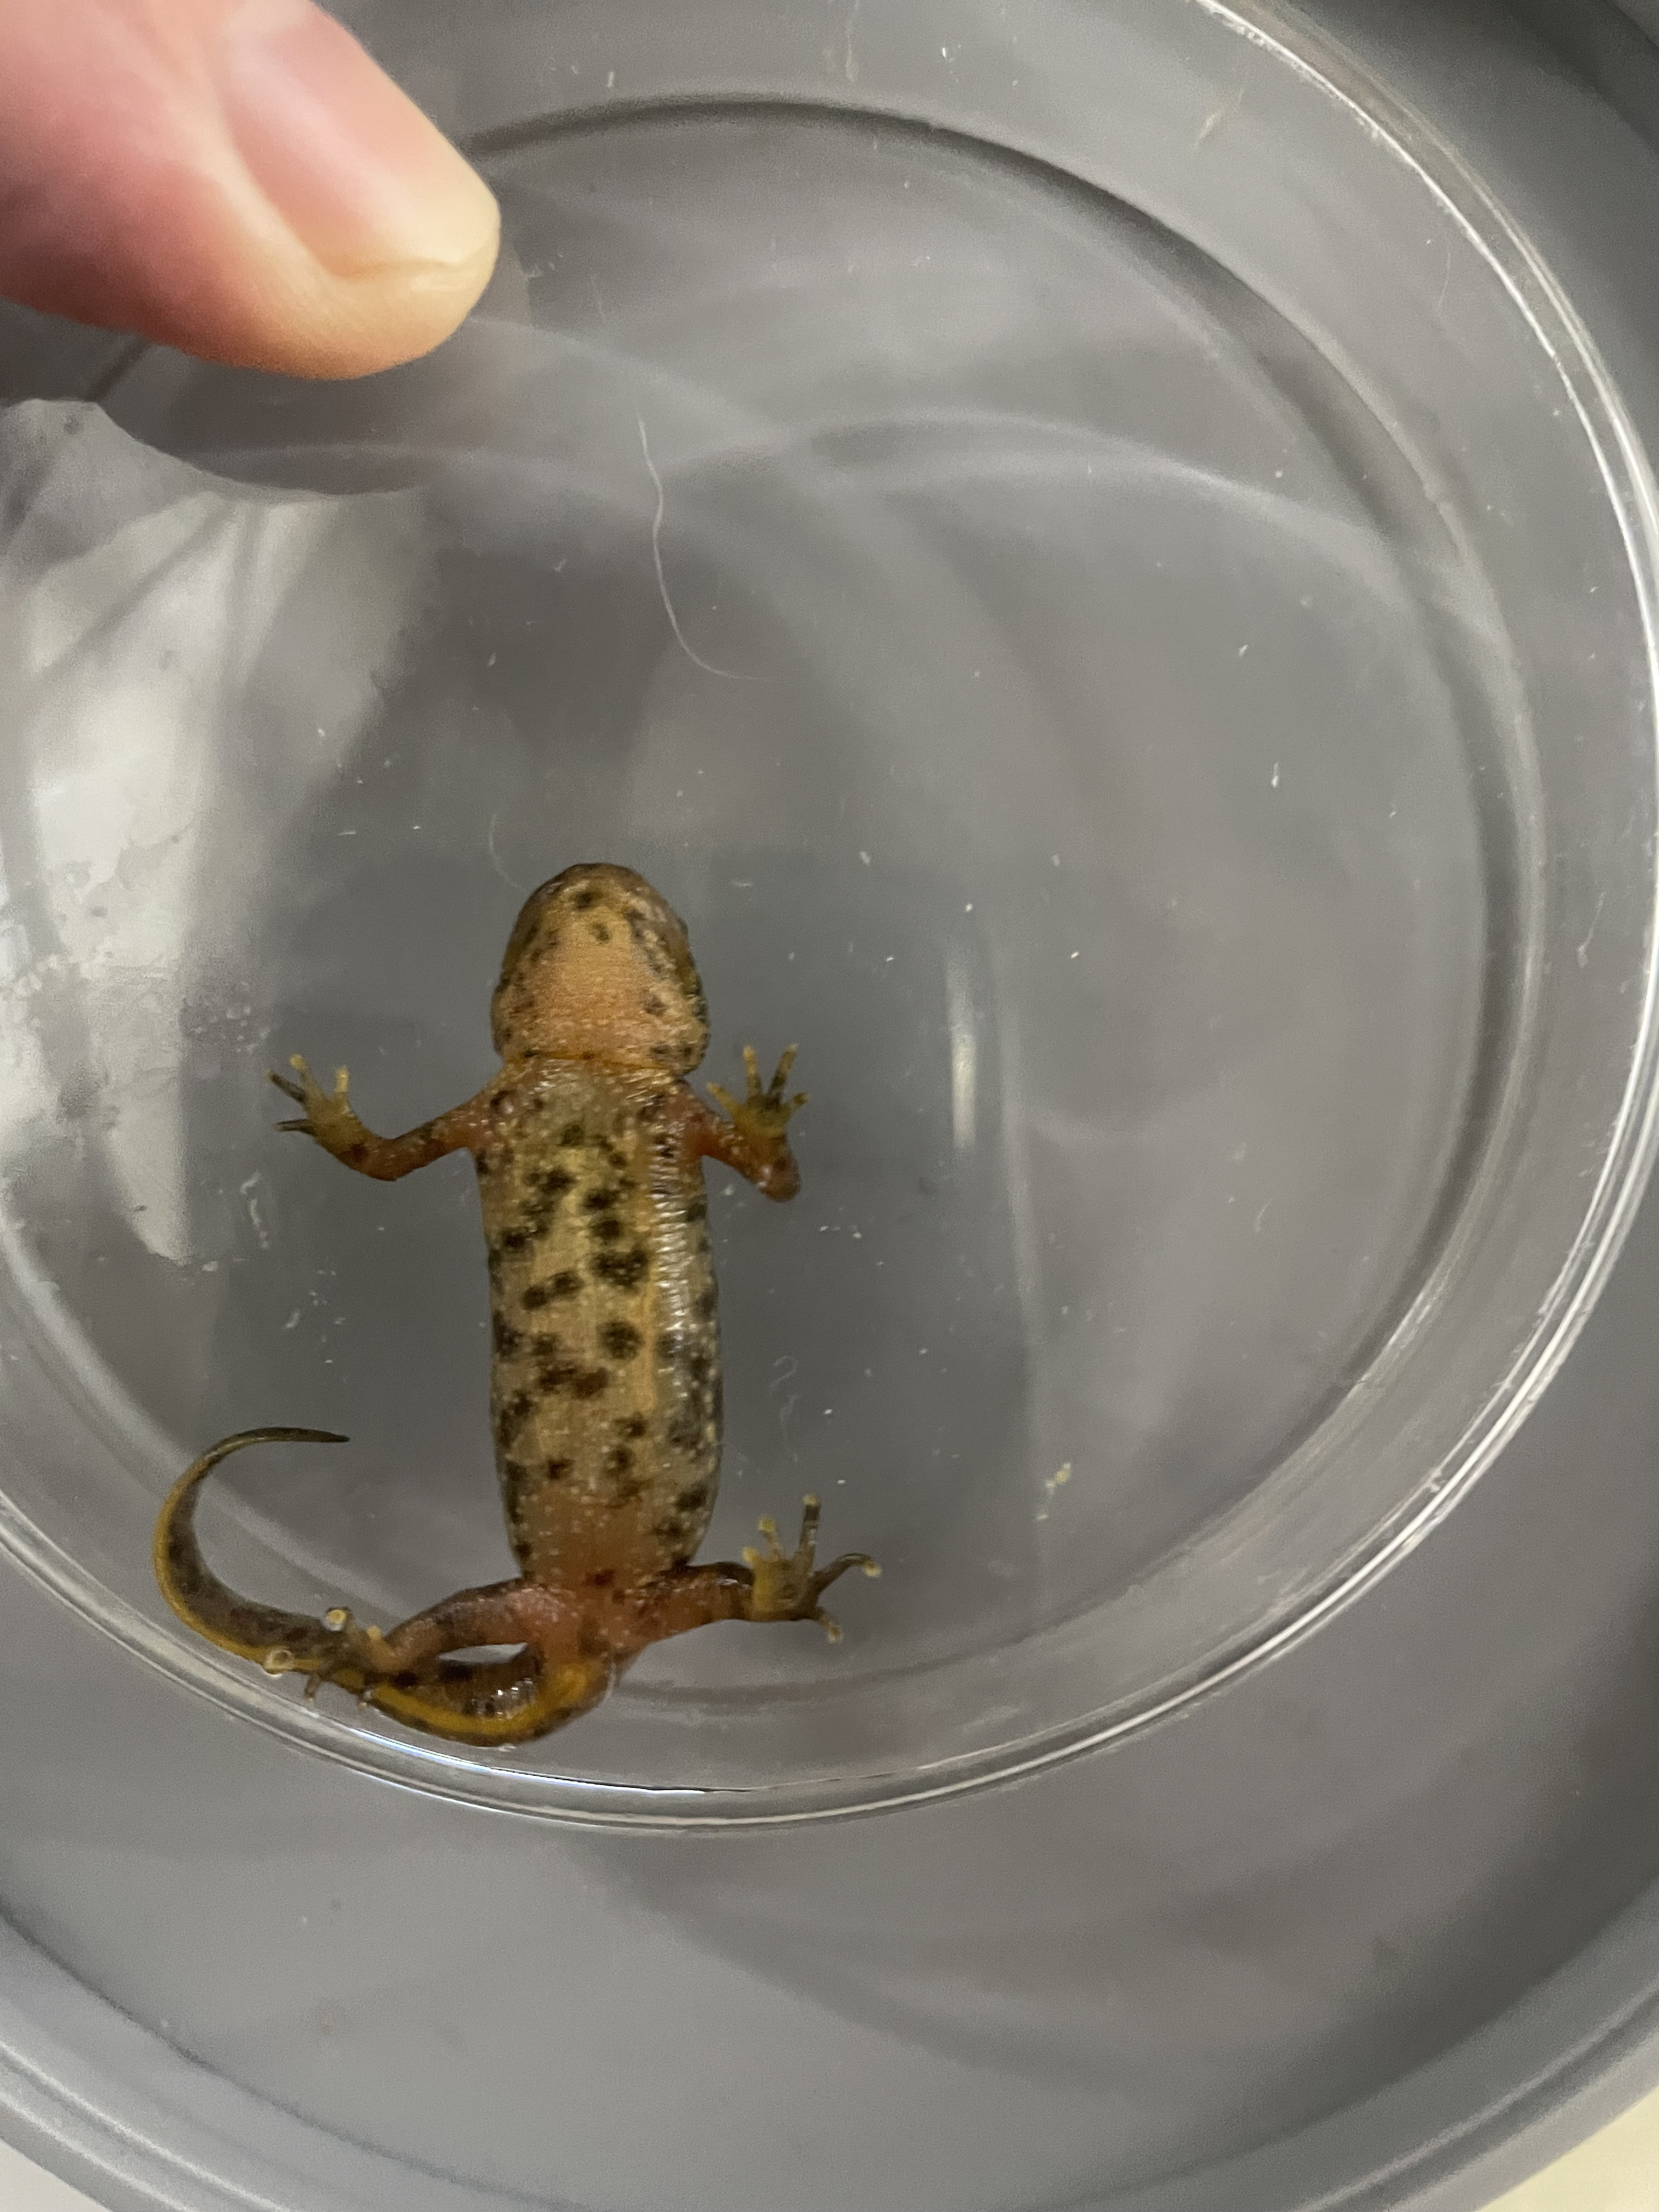newt_ribbed: (471, 1146, 723, 1578)
